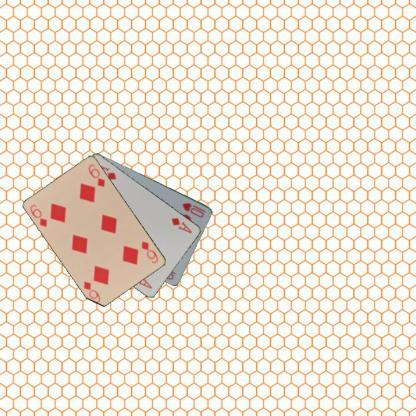10h: (180, 200, 207, 219)
6d: (138, 238, 160, 264), (27, 202, 48, 228)
Ad: (169, 215, 193, 235)
